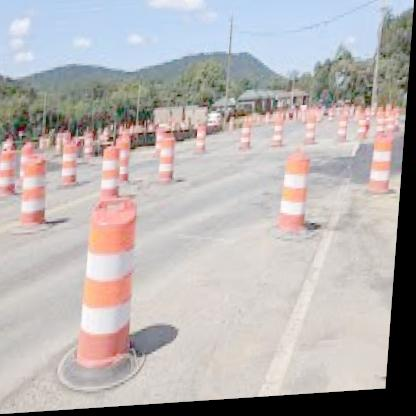obstacle: (78, 196, 148, 375), (281, 154, 315, 243), (366, 137, 401, 201)
